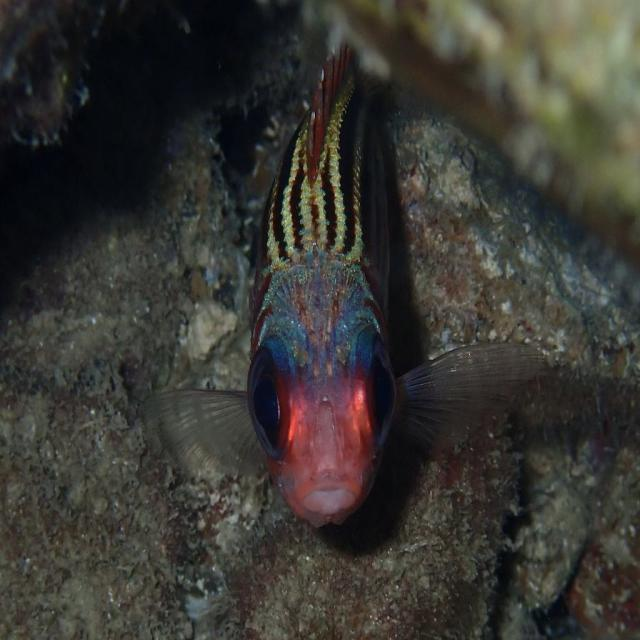Asker Baligi: (138, 40, 550, 532)
